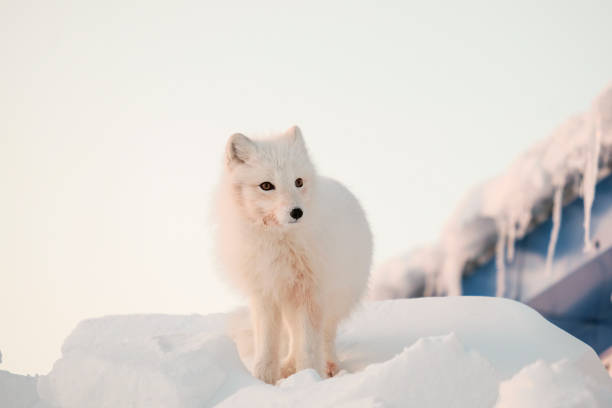arcticfox: (239, 147, 289, 229)
